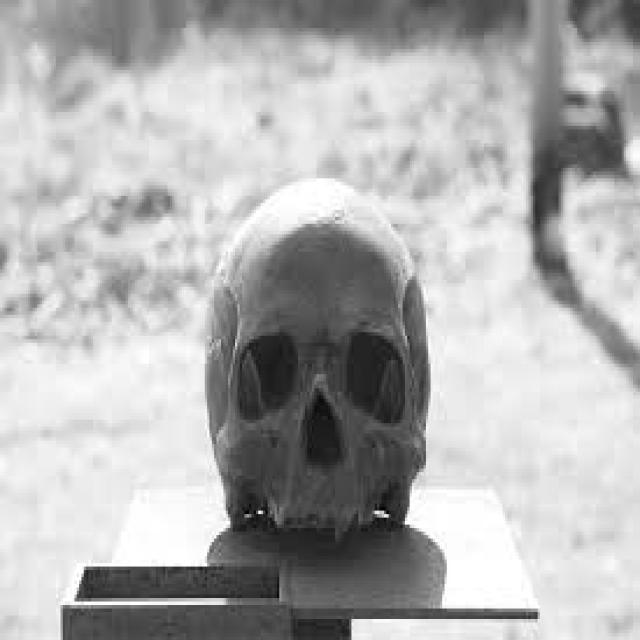skull: (191, 168, 437, 536)
